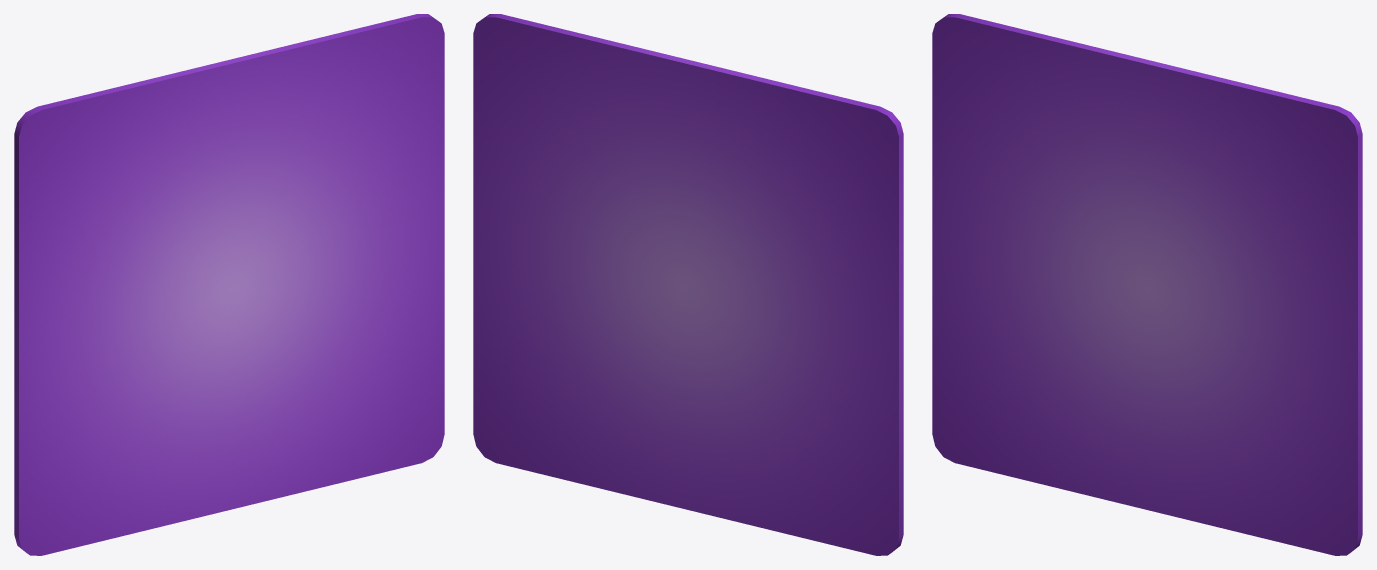
The model's file is rarity-bg-legendary.glb.
3 views of the same model, side by side, from view 1: azimuth 30°, elevation 25°; view 2: azimuth 150°, elevation 25°; view 3: azimuth 330°, elevation 25° (orthographic).
Visible parts, largest first — view 1: rarity_bg_legendary; view 2: rarity_bg_legendary; view 3: rarity_bg_legendary.
Boxes of the visible parts, x1,y1,x2,y2 form: rarity_bg_legendary: (14,14,444,555); rarity_bg_legendary: (473,14,903,555); rarity_bg_legendary: (932,14,1362,555).
Bounding box in the file's own units: 1 × 1 × 0.0187.
1 material, 1 textured.
